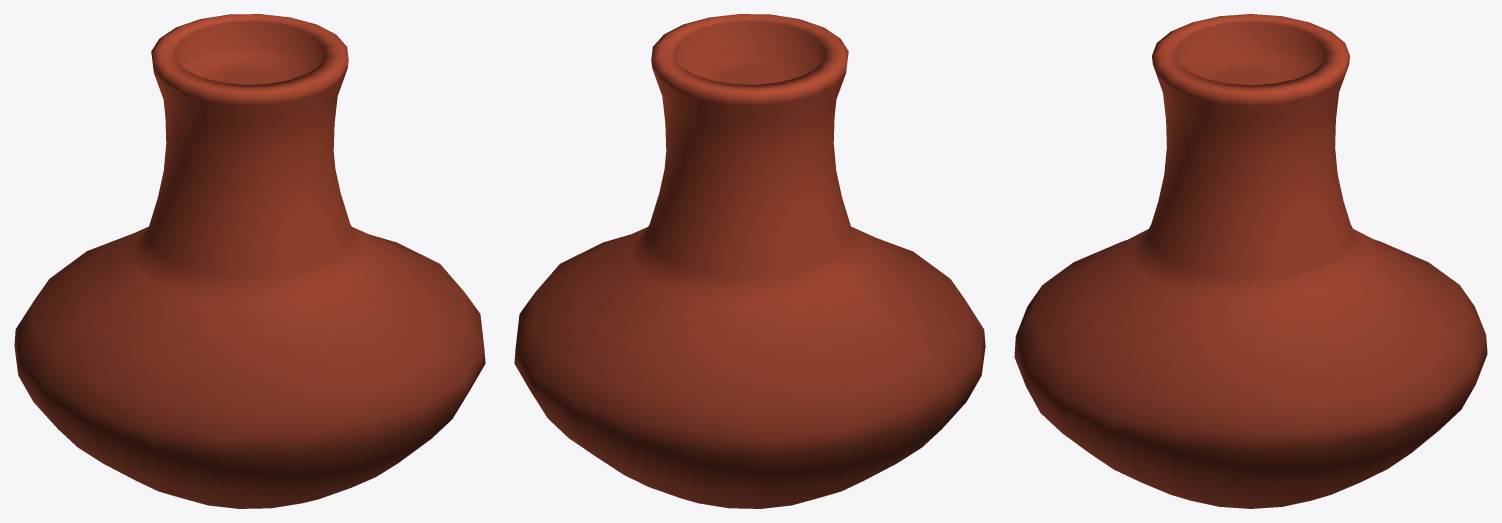
Rendered from vase.fbx.
The picture shows the model from 3 angles, left to right: view 1: azimuth 30°, elevation 25°; view 2: azimuth 150°, elevation 25°; view 3: azimuth 270°, elevation 25°; orthographic projection.
Visible parts, largest first — view 1: pSphere3; view 2: pSphere3; view 3: pSphere3.
Part boxes in pixels (left/top/right/bottom): pSphere3: left=14, top=14, right=485, bottom=508; pSphere3: left=514, top=14, right=985, bottom=508; pSphere3: left=1014, top=14, right=1487, bottom=508.
Size of the model in its own units: 58.44 by 58.29 by 58.44.
